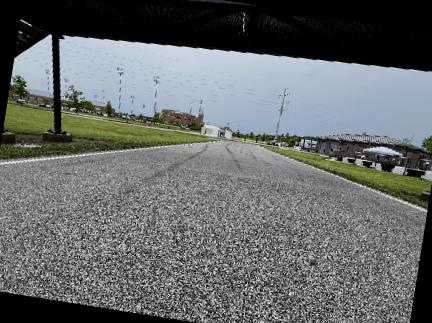Grass: (268, 147, 431, 207), (0, 118, 215, 158), (62, 115, 209, 145)
Lane: (0, 141, 426, 322)
